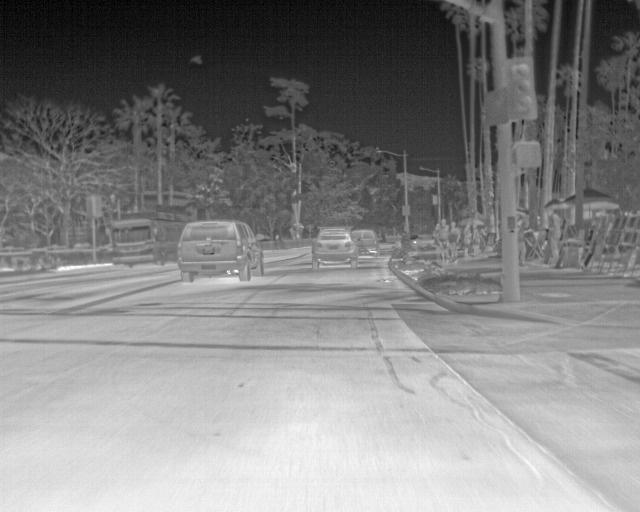bicycle: (176, 218, 266, 282), (309, 226, 358, 266), (351, 228, 378, 256)
empty: (460, 218, 476, 257), (446, 220, 459, 260), (436, 218, 449, 246)
